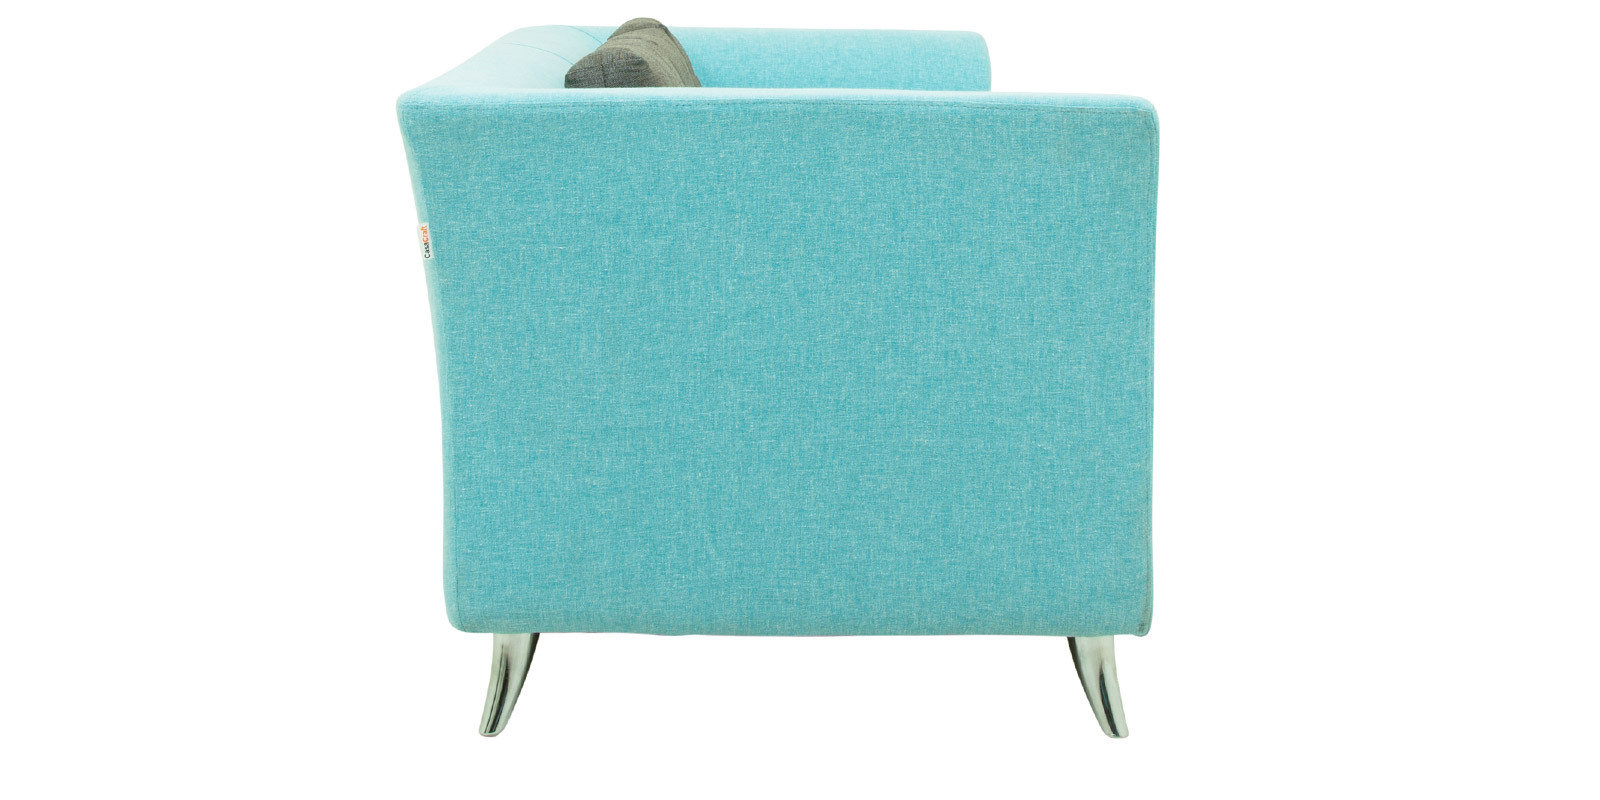Iowa Three Seater Sofa in Celeste Blue Colour by Furnitech: (393, 13, 1208, 772)
